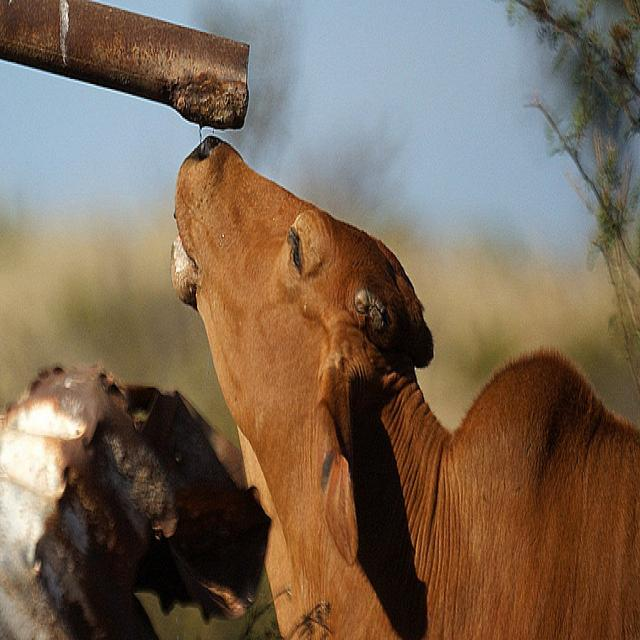cow: (167, 131, 639, 625)
